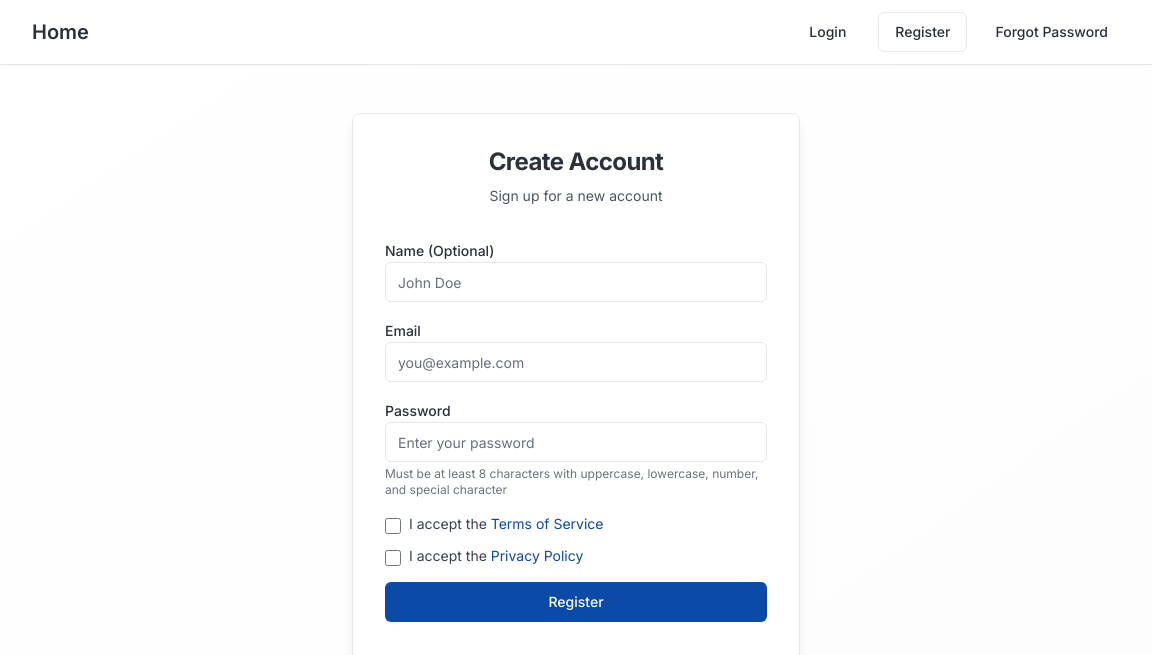
Register Page › should display error message on register failure
Note: Fill in valid form data that passes all validation
Type "existing@example.com" into the field labelled "Email".
click(576, 362); type("existing@example.com")  # box [385,342,767,382]
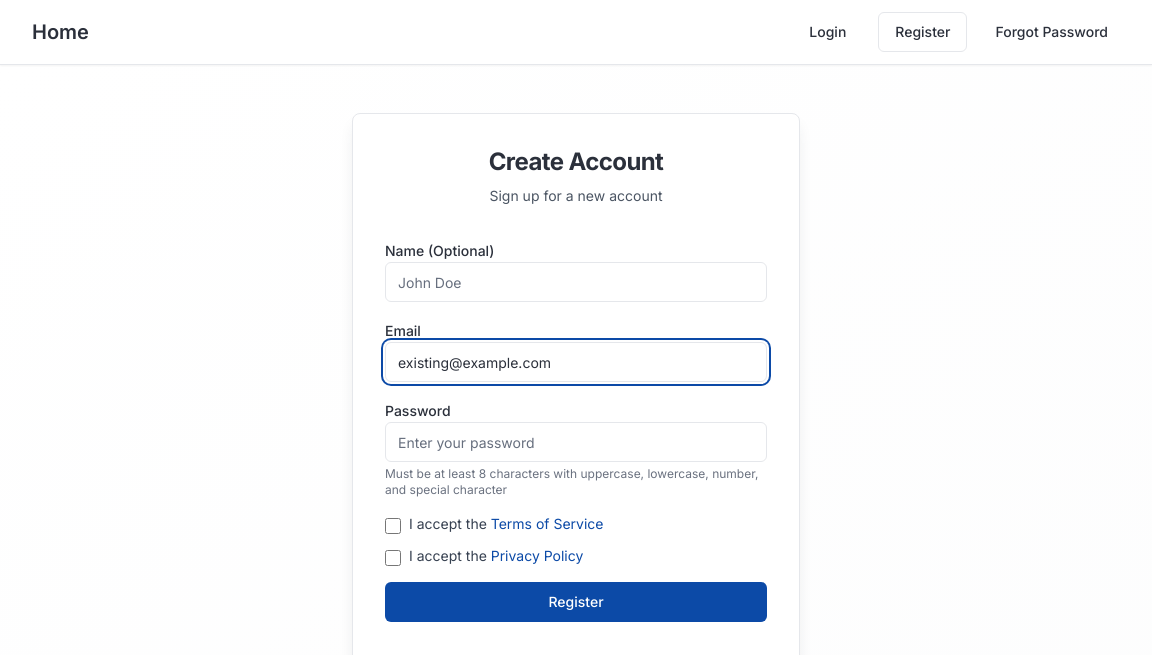
Type "Password123!" into the password field labelled "Password".
click(576, 442); type("Password123!")  # box [385,422,767,462]
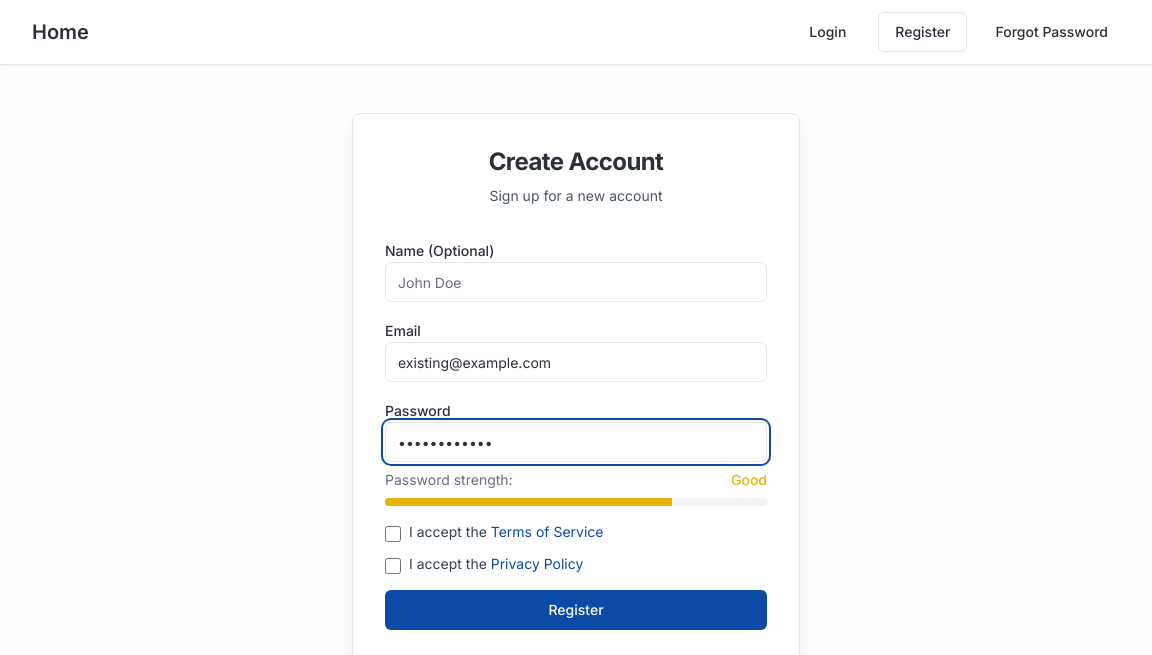
Type "Test User" into the field labelled "Name (Optional)".
click(576, 282); type("Test User")  # box [385,262,767,302]
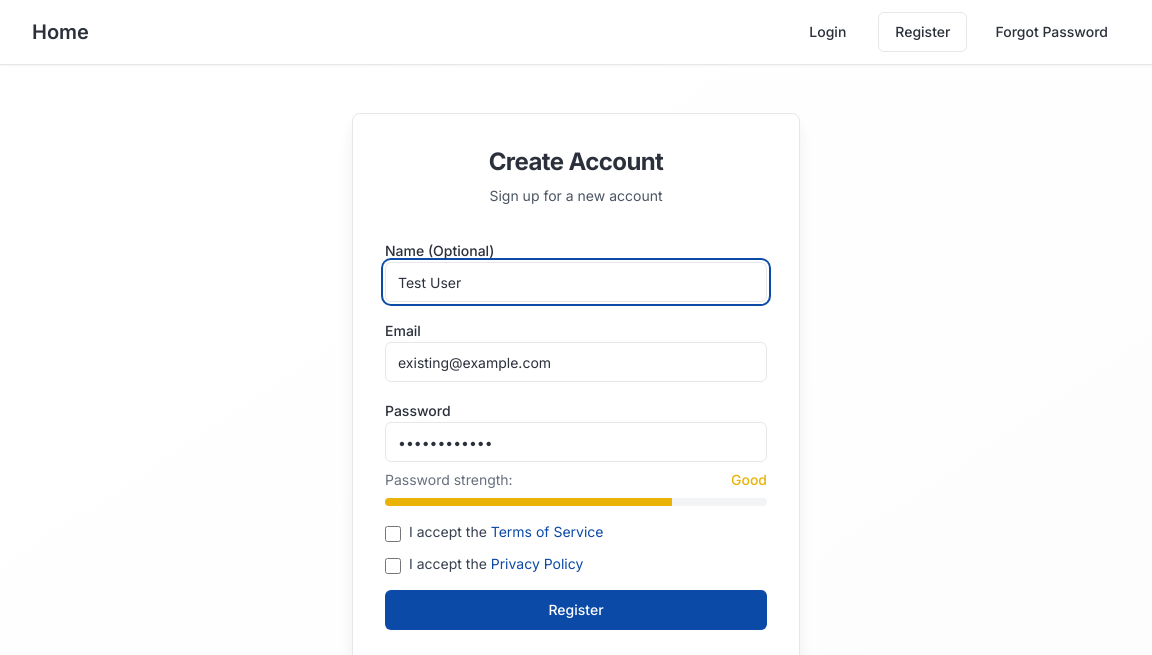
Click the checkbox labelled "I accept the Terms of Service".
click(393, 534)  # box [385,526,401,542]
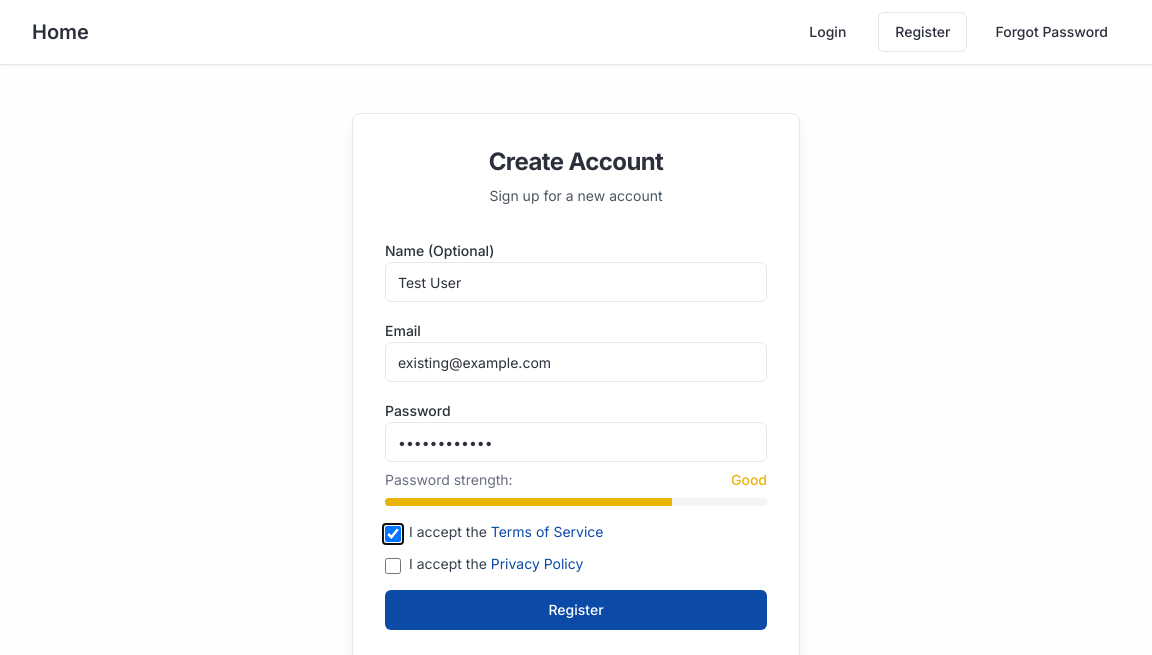
Click the checkbox labelled "I accept the Privacy Policy".
click(393, 566)  # box [385,558,401,574]
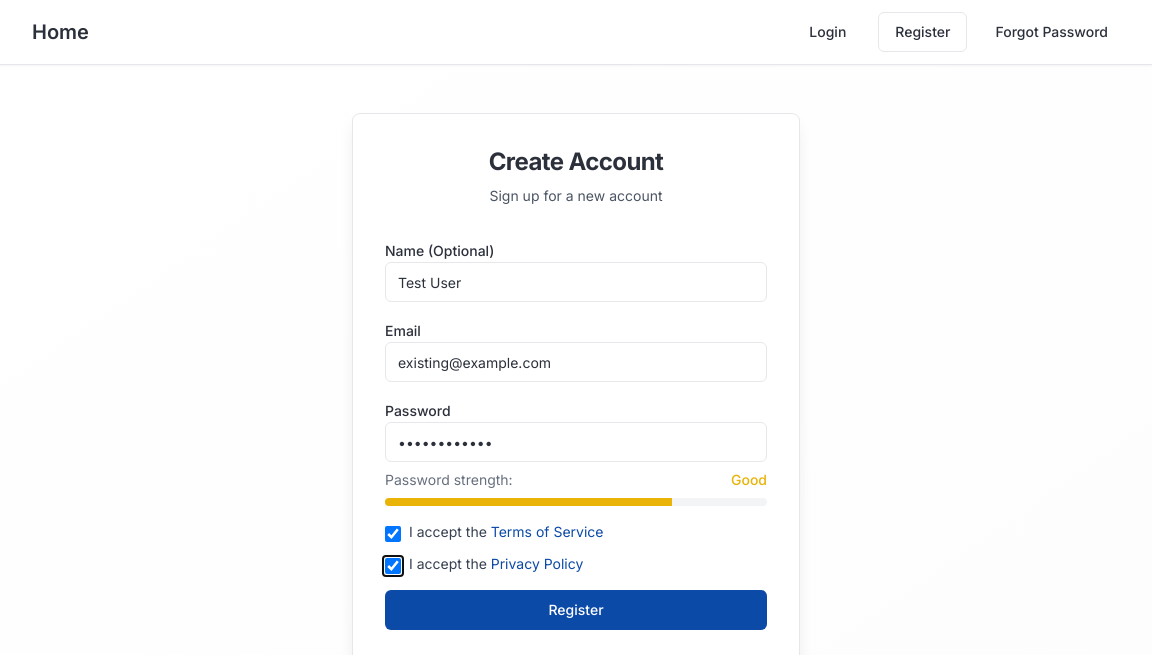
Click the button "Register".
click(576, 610)  # box [385,590,767,630]
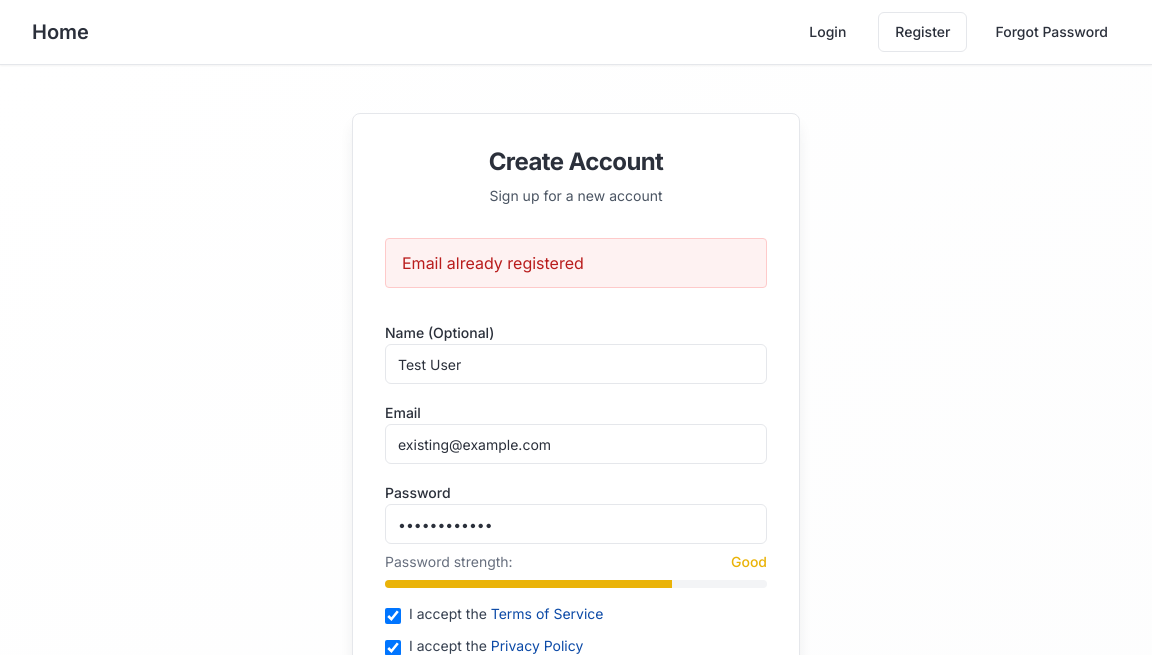
Result: the text "Email already registered" is shown at [385,238,767,288]
